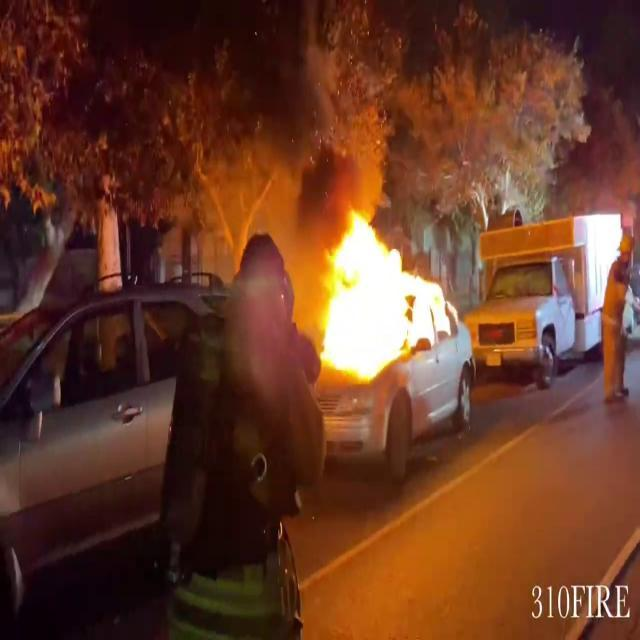Fire: (302, 194, 452, 388)
Smoke: (228, 0, 378, 229)
